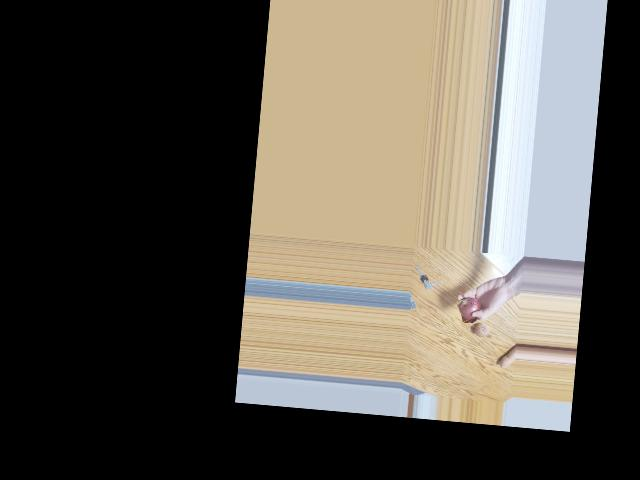onion: (458, 298, 479, 319)
